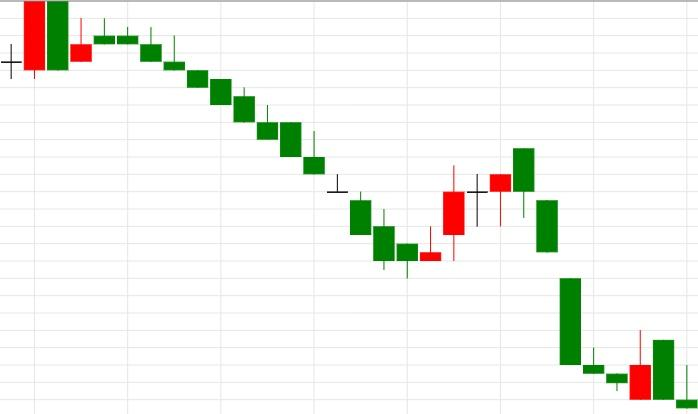hanging_man_fall: (397, 165, 512, 279)
three_black_crows_fall: (396, 146, 582, 366)
